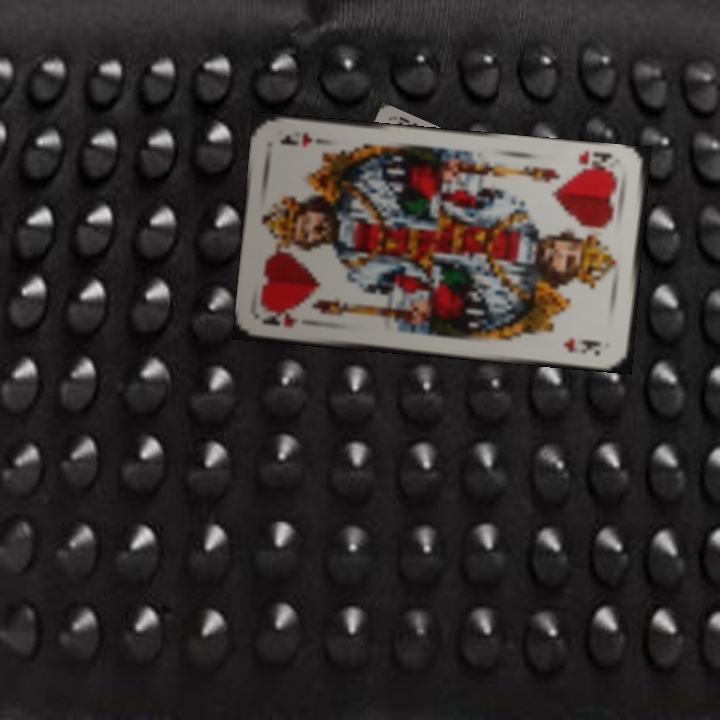HK: (572, 148, 617, 177), (259, 306, 301, 330)
